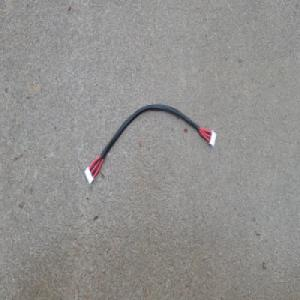Wire: (82, 102, 217, 186)
